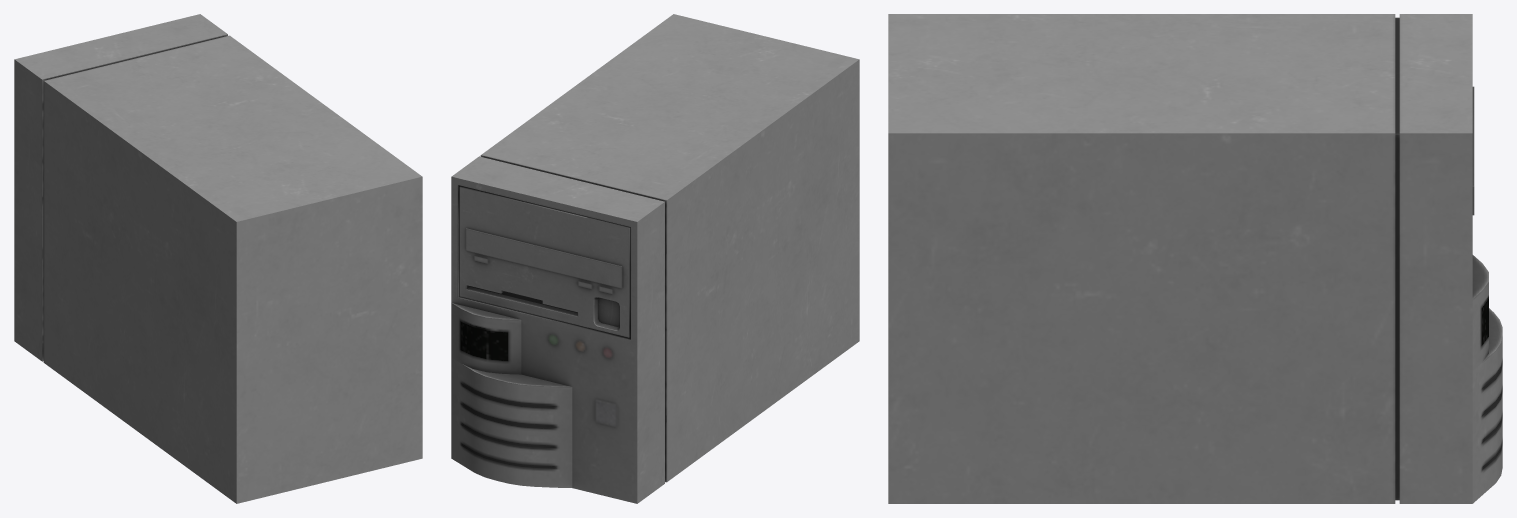
Rendered from MotherboardBox.fbx.
3 views of the same model, side by side, from view 1: azimuth 30°, elevation 25°; view 2: azimuth 150°, elevation 25°; view 3: azimuth 270°, elevation 25° (orthographic). The views are drawn at different scales.
Parts seen in each view (by area): view 1: MotherboardBox; view 2: MotherboardBox; view 3: MotherboardBox.
Part boxes in pixels (x1,y1,x2,y2): MotherboardBox: [14, 14, 422, 503]; MotherboardBox: [451, 14, 859, 503]; MotherboardBox: [888, 14, 1502, 503].
Size of the model in its own units: 48.39 by 32.22 by 22.23.
